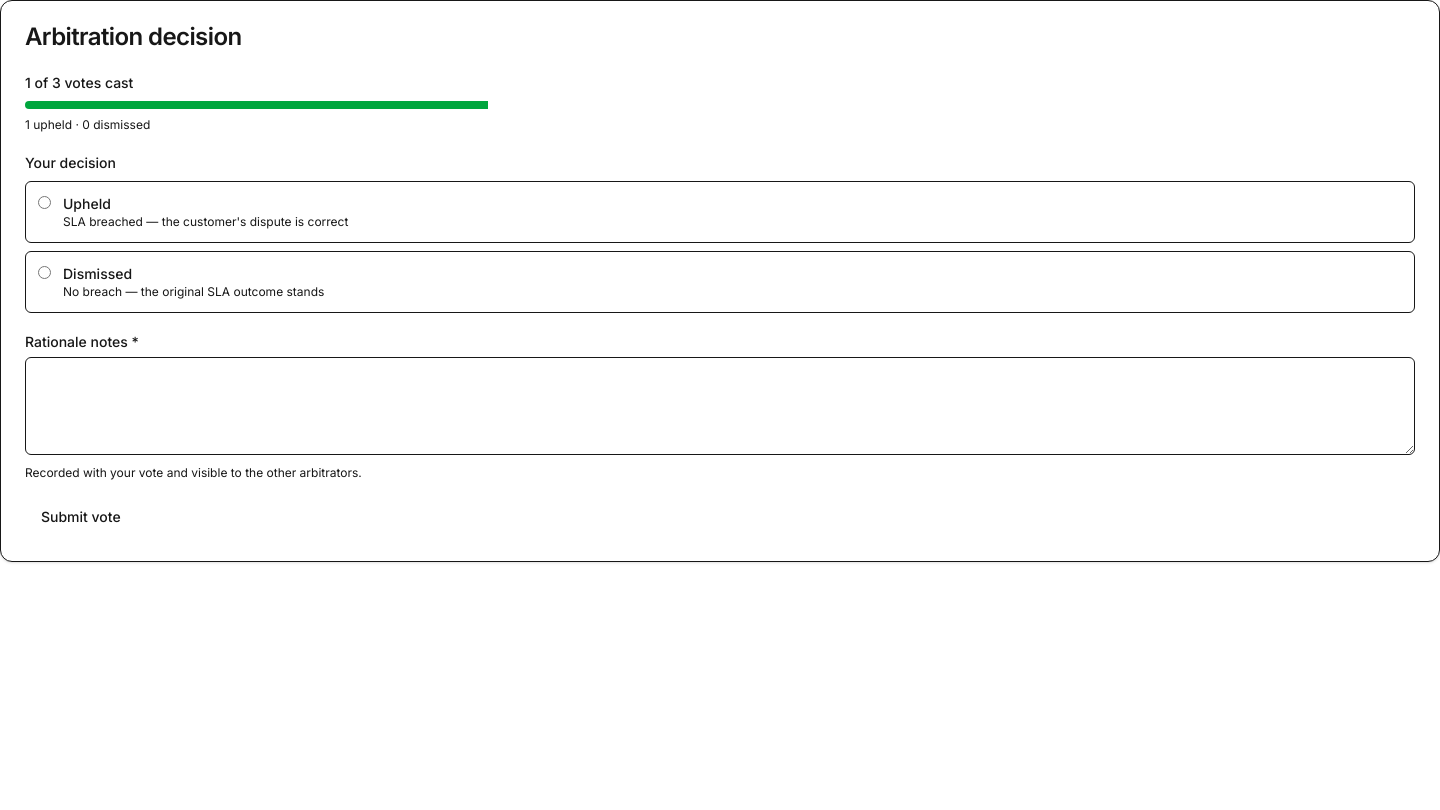
it: ArbitratorVotePanel › validation › clears an error once the field is corrected
Click the button "Submit vote" at (81, 517), box [25,497,137,537]
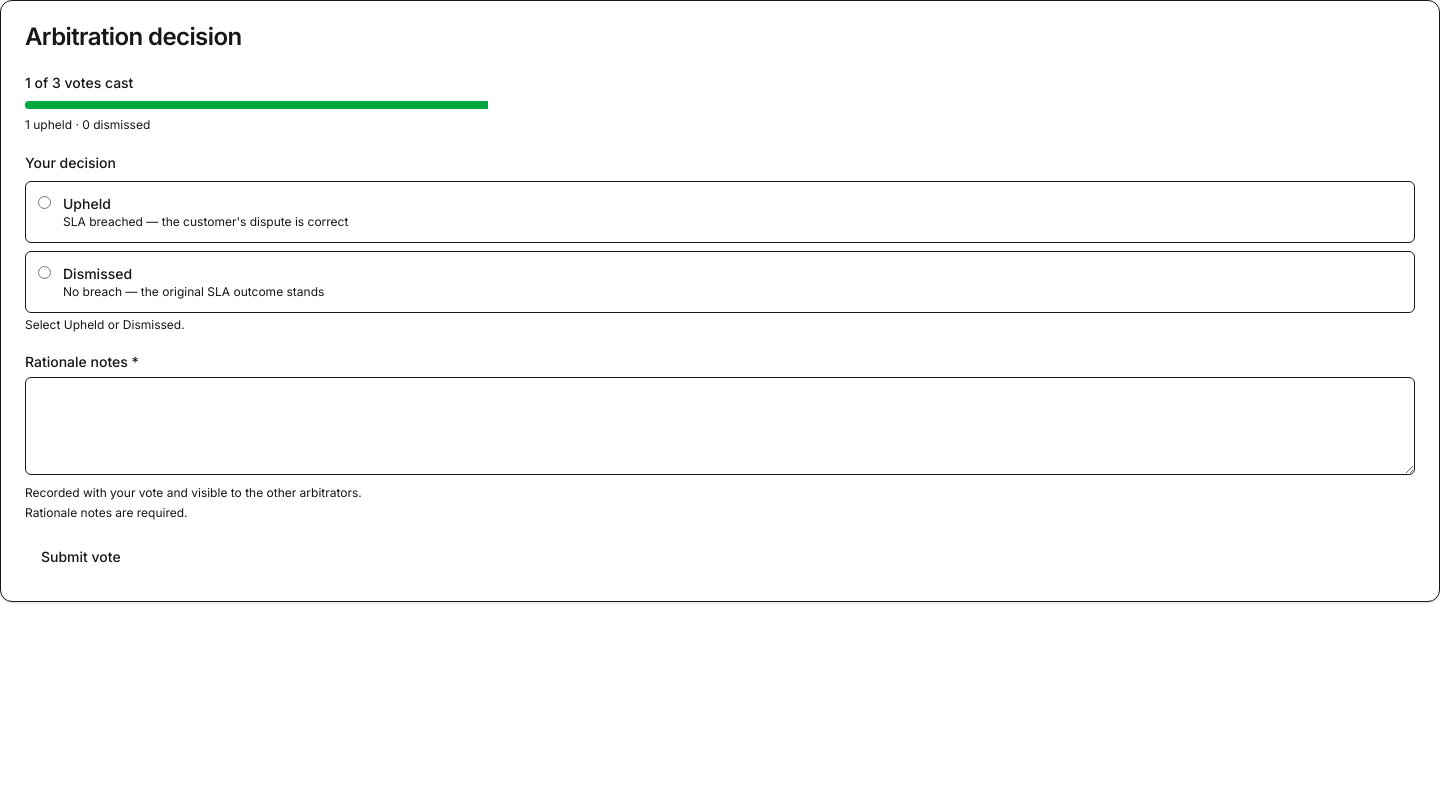
Expected: the text "Select Upheld or Dismissed." is shown, [25,317,185,332]
Click the radio button labelled "Dismissed No breach — the original SLA outcome stands" at (44, 272), box [38,266,51,279]
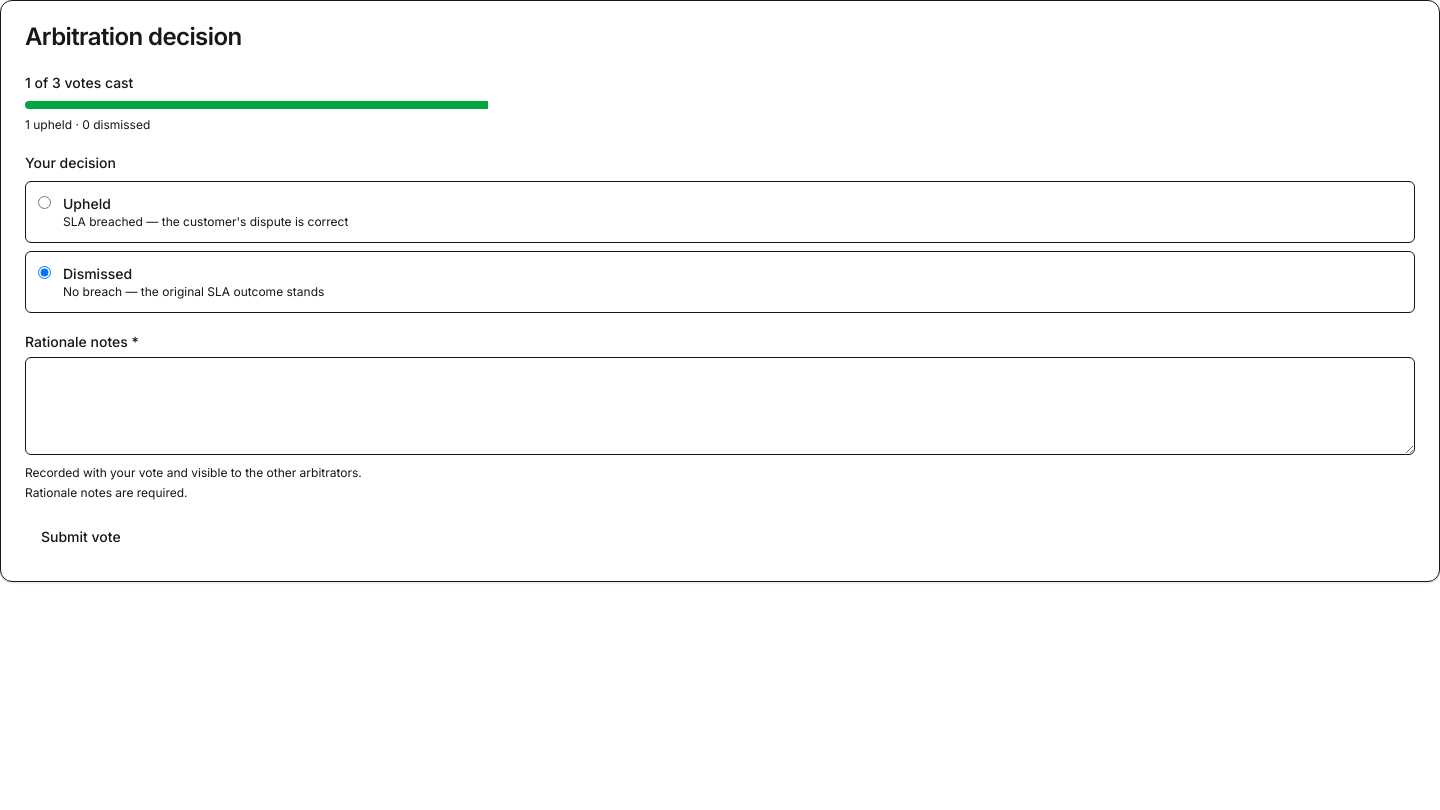
Expected: the text "Select Upheld or Dismissed" is gone
